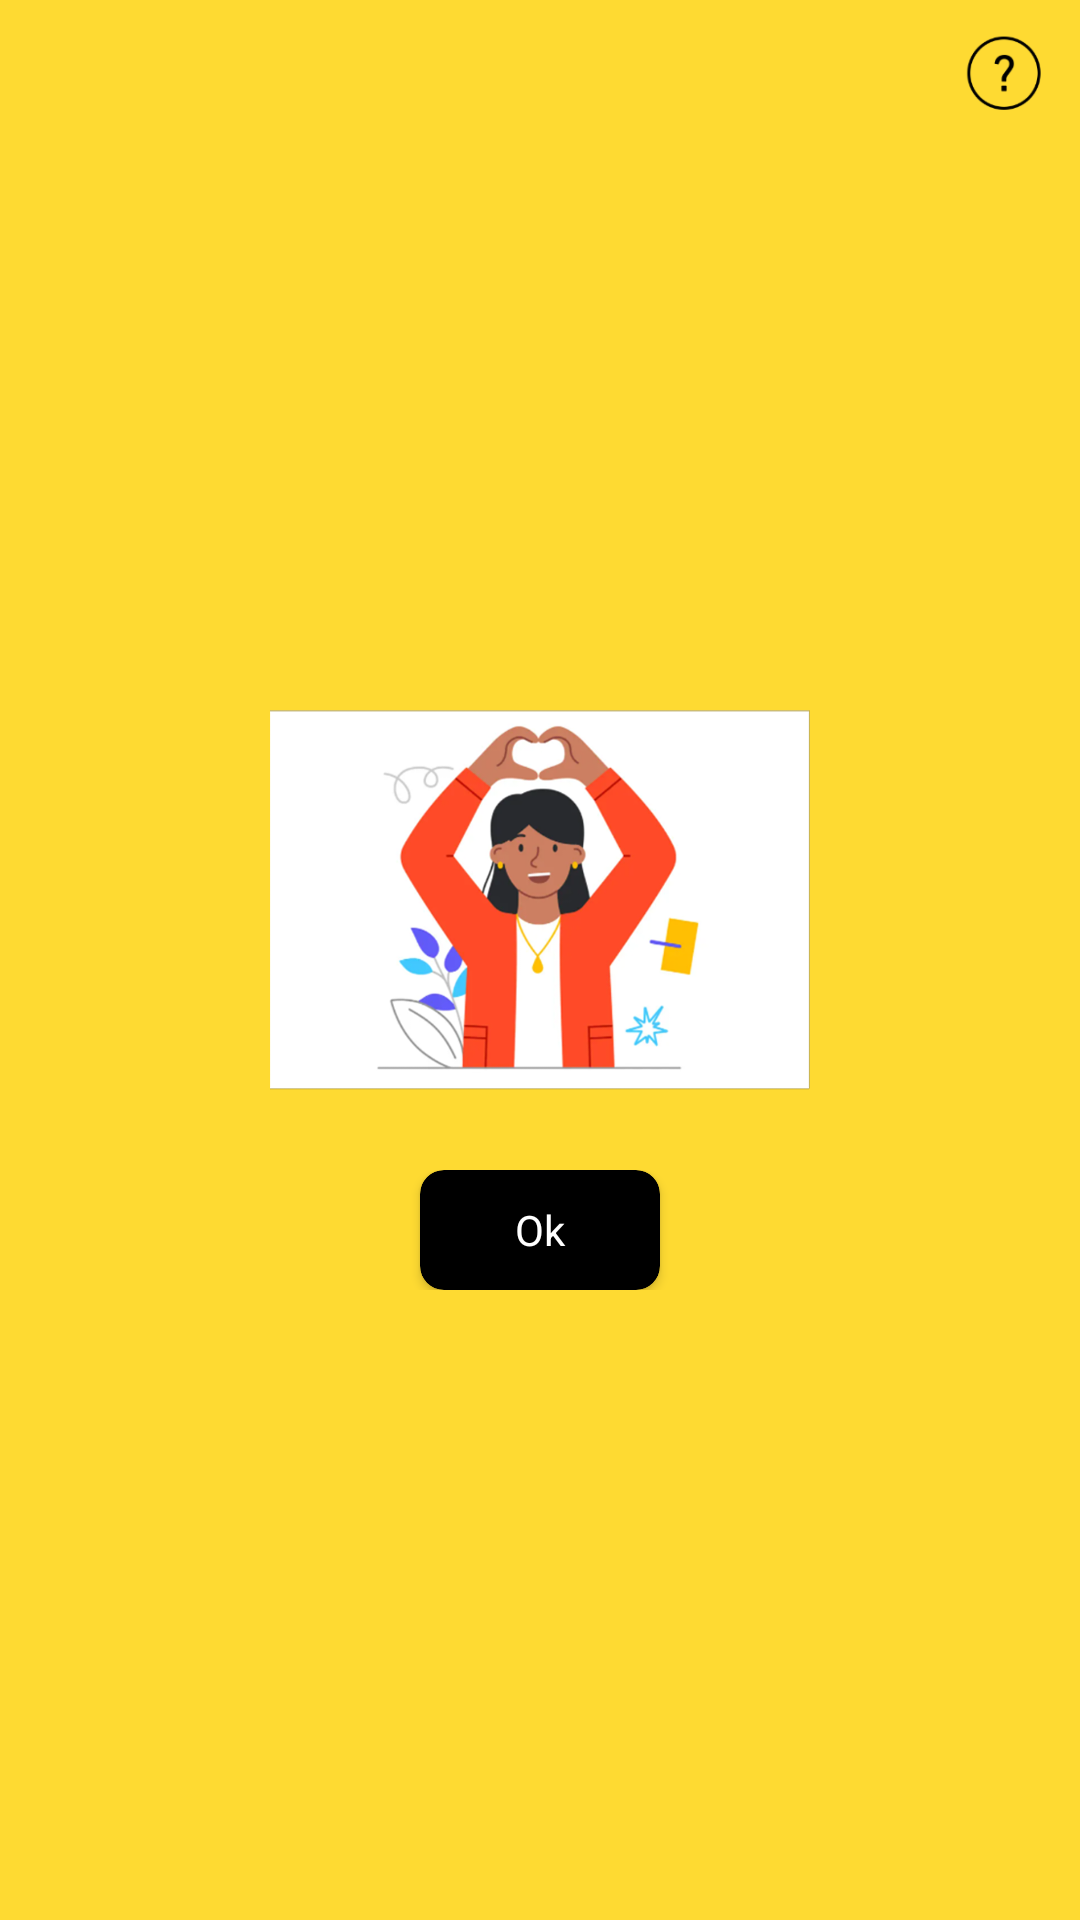

Where icons sit on this 1080px×1920px app screen, as rect(x1, y1, x2, y2):
info: rect(967, 36, 1041, 110)
